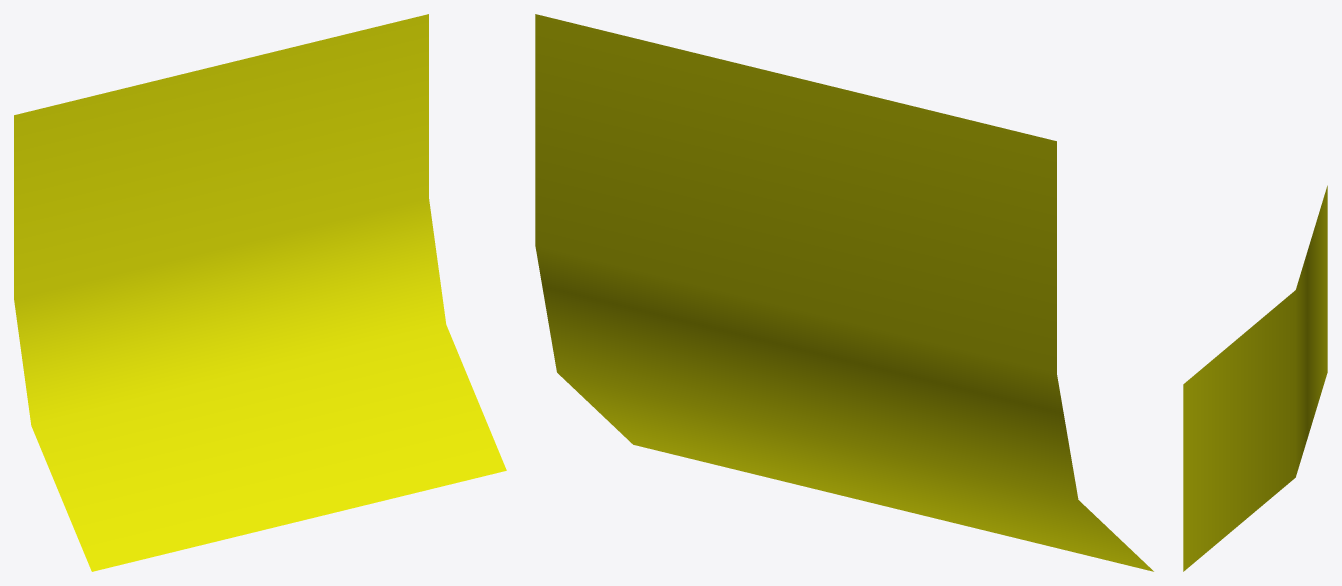
Rendered from yellow note.fbx.
3 views of the same model, side by side, from view 1: azimuth 30°, elevation 25°; view 2: azimuth 150°, elevation 25°; view 3: azimuth 270°, elevation 25° (orthographic). The views are drawn at different scales.
Visible parts, largest first — view 1: pPlane3; view 2: pPlane3; view 3: pPlane3.
Part boxes in pixels (left/top/right/bottom): pPlane3: left=14, top=14, right=506, bottom=571; pPlane3: left=535, top=14, right=1153, bottom=571; pPlane3: left=1183, top=185, right=1327, bottom=571.
Bounding box in the file's own units: 0.134 × 0.1234 × 0.0435.
